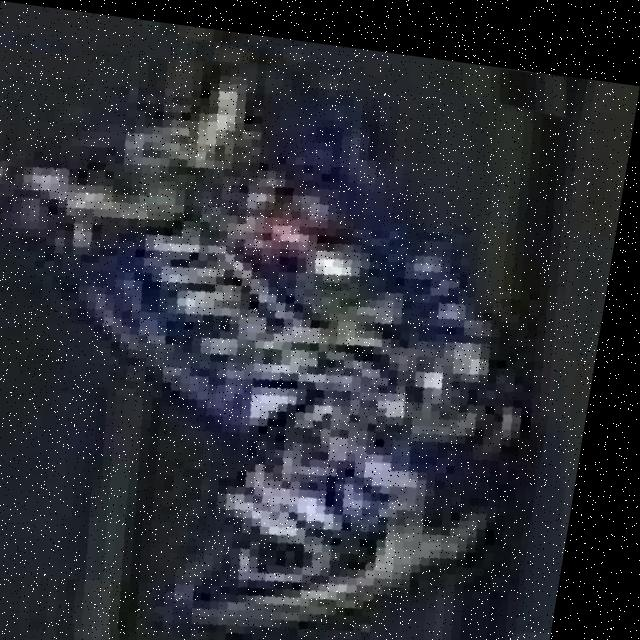litter: (0, 50, 569, 636)
